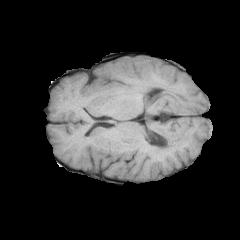glioma: (88, 56, 161, 96)
